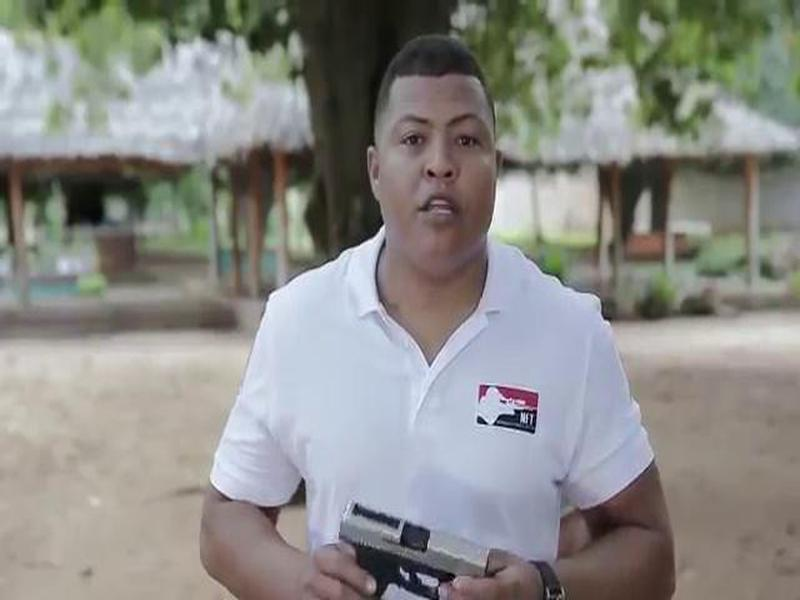Pistola: (335, 493, 507, 600)
